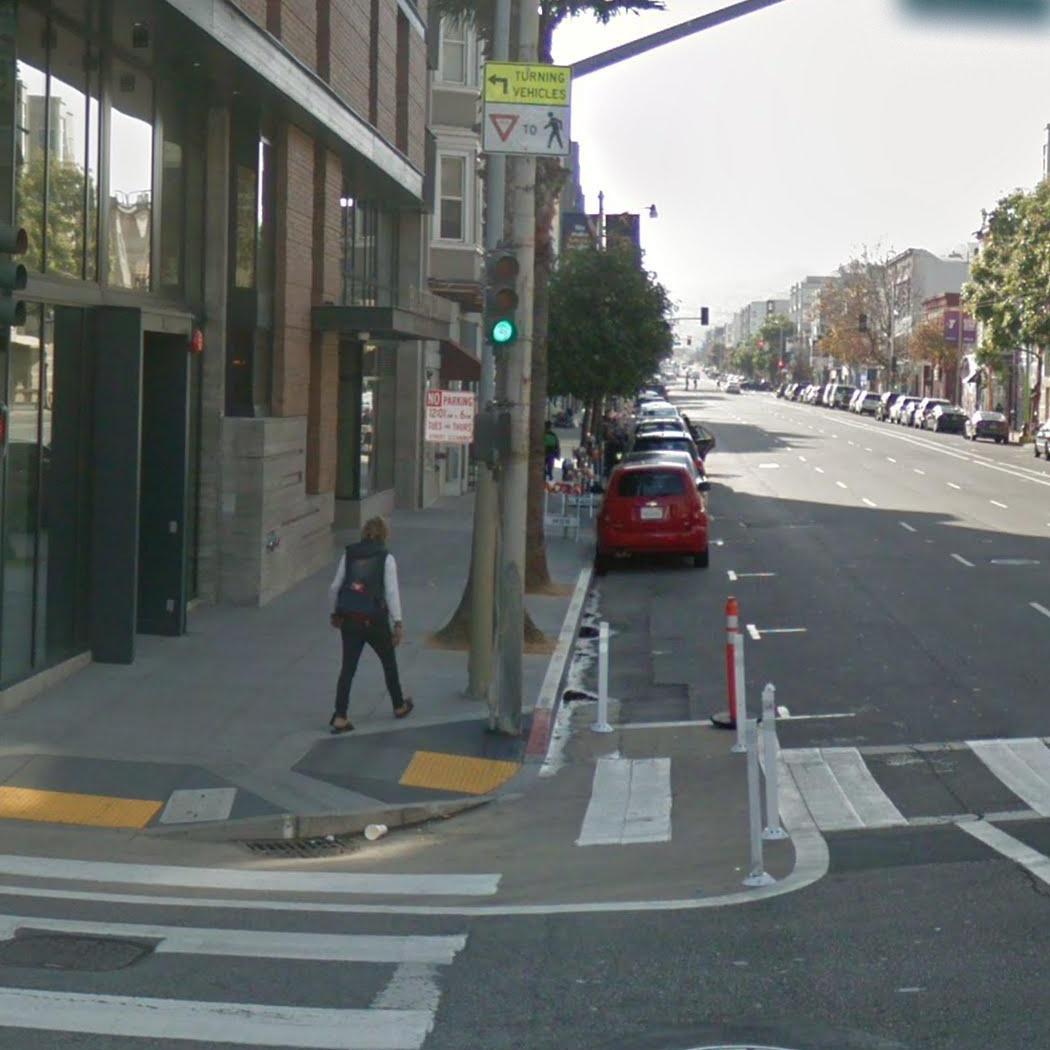No Parking: (422, 388, 476, 445)
